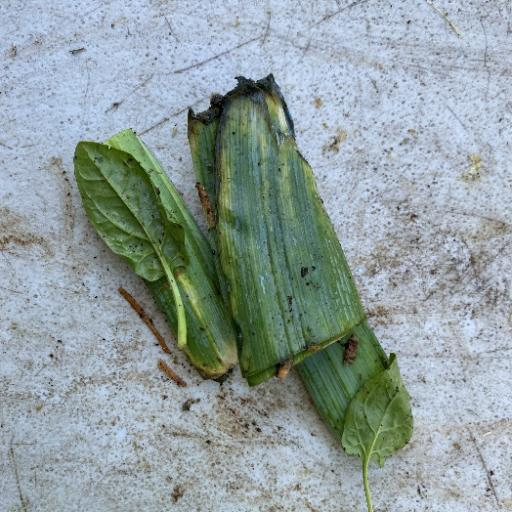Waste: (72, 71, 416, 508)
